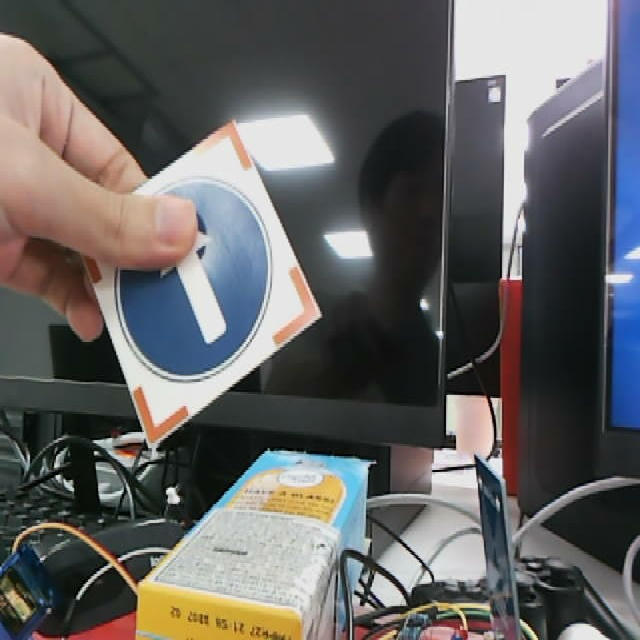straight: (75, 114, 321, 448)
